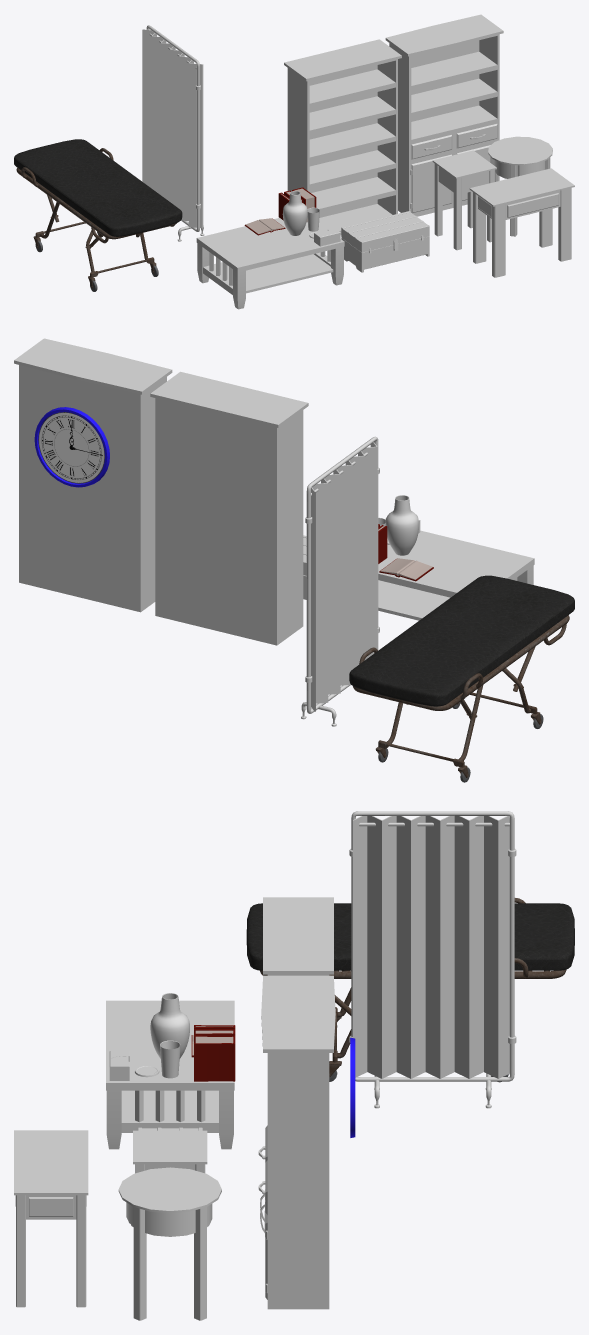
The model's file is Props_Wave01.fbx.
3 renders of one model, top to bottom at view 1: azimuth 30°, elevation 25°; view 2: azimuth 150°, elevation 25°; view 3: azimuth 270°, elevation 25°, orthographic. The views are drawn at different scales.
Parts seen in each view (by area): view 1: Shelf_Long-High, Shelf_Long-Drawers, DividerSheet, Cube, Coffe Table, EndTable_Square_Long, Small Trunk, EndTable_Square, EndTable Round, Cabinet01, Divider, Gurney Frame (+6 smaller); view 2: Shelf_Long-High, Shelf_Long-Drawers, Cube, DividerSheet, Coffe Table, Circle Clock Wall Deco, Divider, Gurney Frame, SimpleVase, Gurney Spring, Book_Open; view 3: DividerSheet, Shelf_Long-Drawers, Coffe Table, EndTable Round, EndTable_Square_Long, Cube, Shelf_Long-High, Divider, EndTable_Square, HolyShitBook, SimpleVase, EndTable_Square_Long.001 (+1 smaller).
Boxes of the visible parts, left/top/right/bottom form: Shelf_Long-High: left=284, top=39, right=401, bottom=234; Shelf_Long-Drawers: left=385, top=14, right=503, bottom=216; DividerSheet: left=142, top=29, right=203, bottom=228; Cube: left=14, top=139, right=182, bottom=236; Coffe Table: left=196, top=218, right=344, bottom=309; EndTable_Square_Long: left=469, top=168, right=574, bottom=277; Small Trunk: left=341, top=211, right=429, bottom=272; EndTable_Square: left=432, top=150, right=496, bottom=250; EndTable Round: left=488, top=136, right=552, bottom=236; Cabinet01: left=410, top=154, right=452, bottom=213; Divider: left=146, top=25, right=204, bottom=241; Gurney Frame: left=35, top=195, right=154, bottom=277; Shelf_Long-High: left=150, top=371, right=308, bottom=645; Shelf_Long-Drawers: left=14, top=338, right=172, bottom=612; Cube: left=349, top=575, right=574, bottom=706; DividerSheet: left=311, top=442, right=377, bottom=711; Coffe Table: left=378, top=530, right=534, bottom=620; Circle Clock Wall Deco: left=34, top=407, right=109, bottom=487; Divider: left=301, top=436, right=379, bottom=726; Gurney Frame: left=378, top=646, right=537, bottom=767; SimpleVase: left=385, top=495, right=418, bottom=555; Gurney Spring: left=353, top=615, right=569, bottom=710; Book_Open: left=379, top=558, right=433, bottom=581; DividerSheet: left=353, top=816, right=509, bottom=1078; Shelf_Long-Drawers: left=261, top=975, right=335, bottom=1309; Coffe Table: left=106, top=1000, right=234, bottom=1149; EndTable Round: left=118, top=1167, right=221, bottom=1320; EndTable_Square_Long: left=14, top=1130, right=88, bottom=1307; Cube: left=246, top=903, right=574, bottom=970; Shelf_Long-High: left=263, top=897, right=333, bottom=975; Divider: left=349, top=811, right=516, bottom=1108; EndTable_Square: left=133, top=1130, right=207, bottom=1173; HolyShitBook: left=194, top=1035, right=235, bottom=1081; SimpleVase: left=150, top=993, right=189, bottom=1058; EndTable_Square_Long.001: left=15, top=1195, right=86, bottom=1216.
Bounding box in the file's own units: 9.15 × 6.79 × 4.14.
